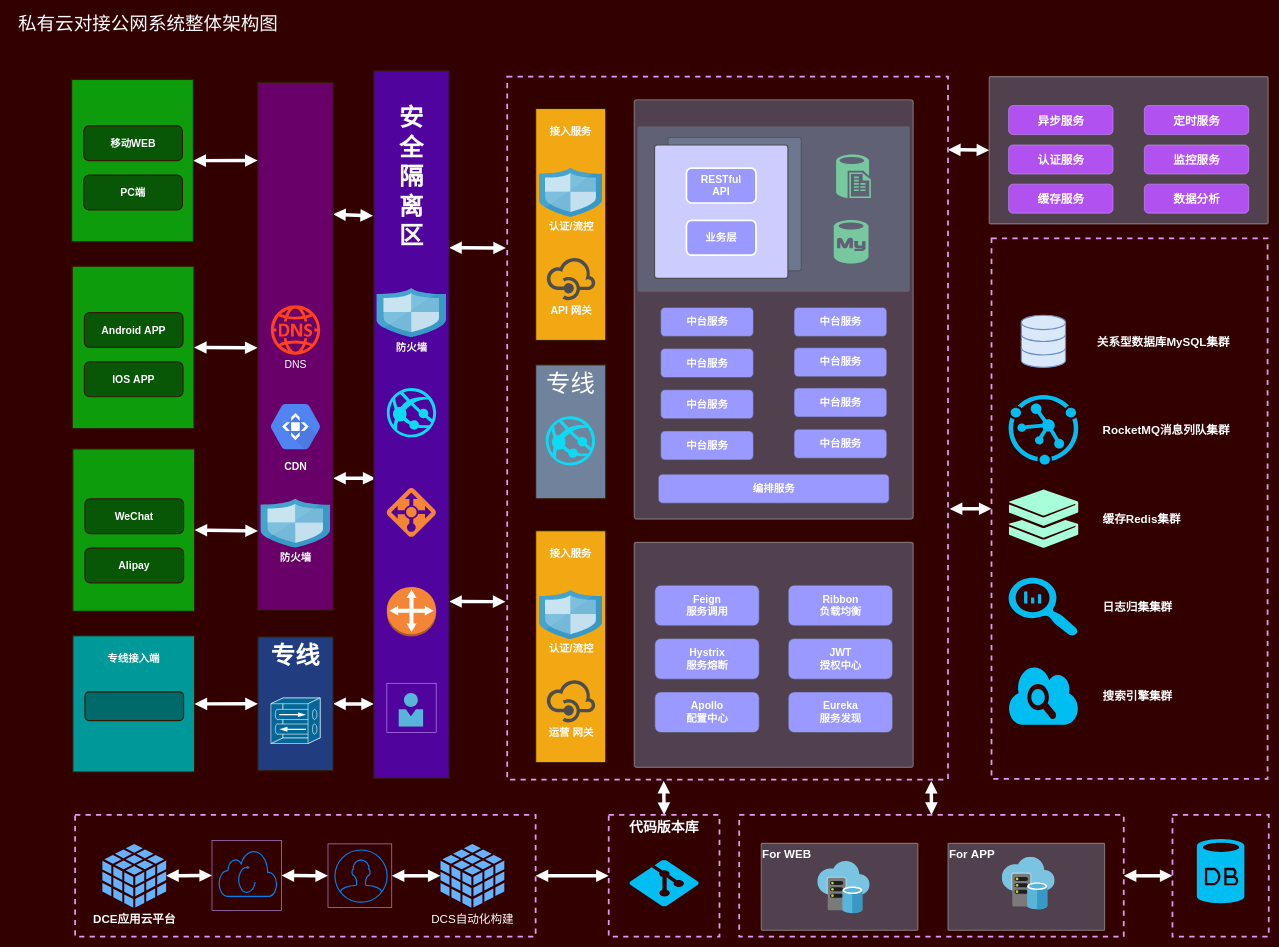
This 1279x947 diagram has some shape labels left out. The shapes that lost their labels are listed below. From the top down, each one's box as (x1, y1, x2, y2) in pixels, then its label:
(71, 79, 194, 242): 传统客户端
(988, 76, 1268, 224): 基础服务
(836, 154, 871, 198): NOSQL
(833, 220, 868, 263): MySQL
(633, 99, 913, 519): 服务中台
(71, 265, 194, 429): APP客户端
(257, 81, 334, 610): 互 联 网 接 入
(387, 388, 436, 437): WEB F5
(545, 416, 595, 465): APP F5
(387, 487, 436, 537): 流量负载
(990, 237, 1268, 780): 相关组件集群
(72, 448, 195, 612): 流量平台端
(386, 586, 436, 637): WEB负载
(633, 541, 913, 768): 基础设施
(84, 691, 184, 721): 接入设备
(270, 697, 320, 744): VPN
(386, 683, 436, 733): 前端程序
(211, 840, 282, 910): Docker
(74, 814, 536, 937): 自动化服务
(327, 843, 392, 908): Jenkins
(629, 860, 699, 906): Git
(738, 814, 1124, 937): 关联系统
(1197, 839, 1244, 903): 持久化
